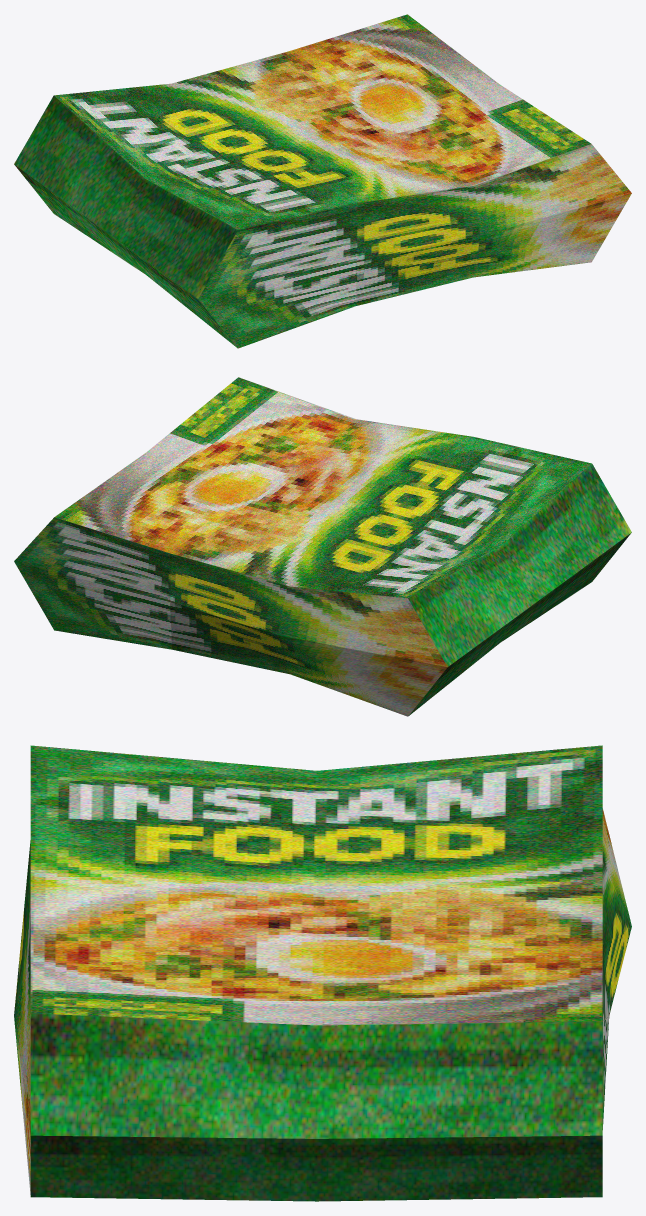
The model's file is instant_food.fbx.
3 renders of one model, top to bottom at view 1: azimuth 30°, elevation 25°; view 2: azimuth 150°, elevation 25°; view 3: azimuth 270°, elevation 25°, orthographic. The views are drawn at different scales.
Parts seen in each view (by area): view 1: ramen02; view 2: ramen02; view 3: ramen02.
Part boxes in pixels (x1,y1,x2,y2): ramen02: [14, 14, 631, 348]; ramen02: [14, 377, 631, 716]; ramen02: [14, 745, 631, 1201].
Size of the model in its own units: 28.66 by 7.58 by 22.56.
